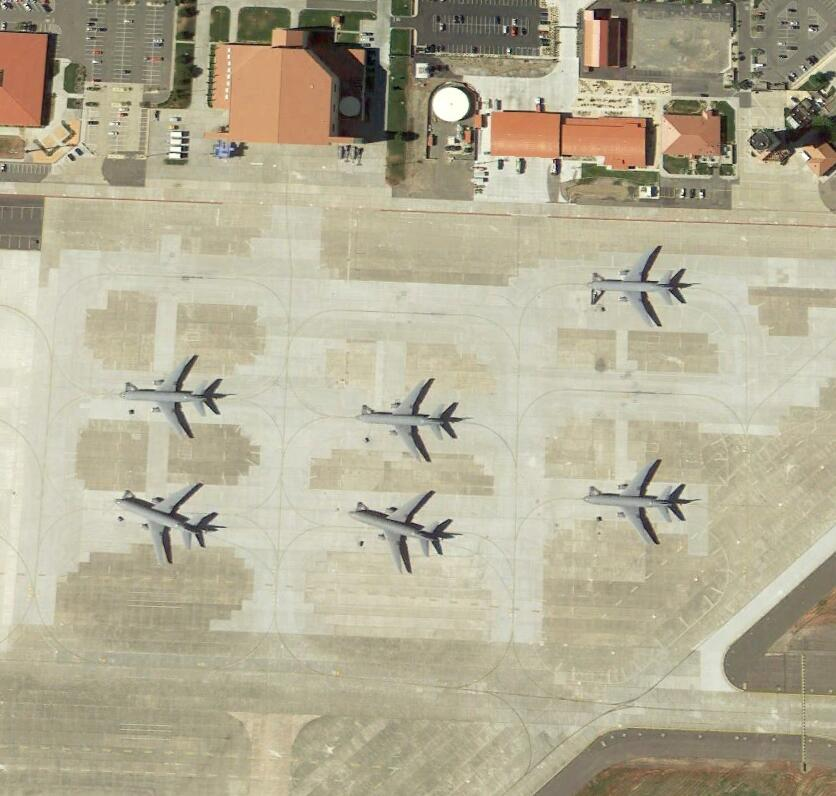A18: (120, 355, 217, 443), (584, 460, 683, 546), (117, 479, 213, 567), (356, 379, 455, 464), (589, 244, 686, 329), (350, 489, 447, 574)
